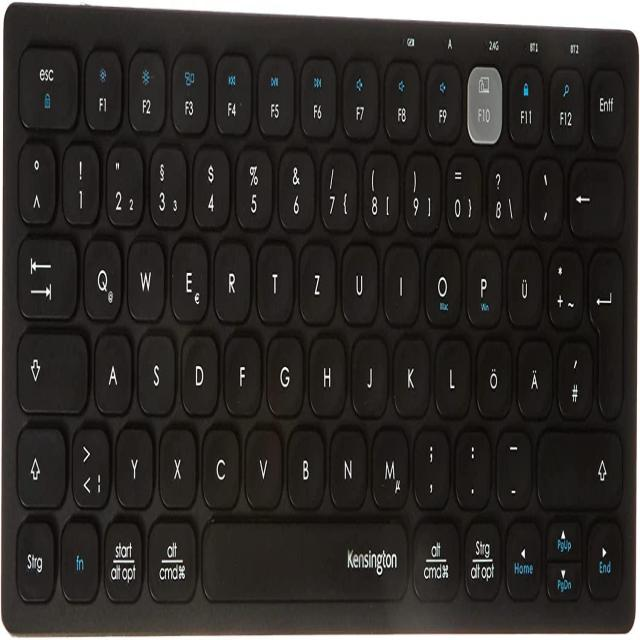0: (444, 150, 480, 234)
1: (61, 138, 99, 222)
2: (104, 141, 143, 225)
3: (147, 142, 186, 227)
4: (191, 142, 229, 226)
5: (234, 144, 272, 228)
6: (277, 146, 315, 230)
7: (318, 147, 357, 231)
8: (360, 148, 398, 232)
9: (402, 148, 439, 233)
a: (93, 328, 131, 412)
accent: (526, 153, 563, 234)
ae: (516, 334, 552, 415)
alt-left: (103, 514, 143, 602)
altgr-right: (458, 515, 506, 599)
b: (285, 424, 324, 506)
c: (200, 423, 239, 507)
caret: (16, 138, 55, 222)
comma: (412, 424, 449, 506)
d: (179, 330, 218, 414)
del: (567, 153, 623, 236)
e: (168, 236, 207, 321)
enter: (586, 244, 623, 418)
f: (223, 329, 260, 413)
g: (265, 331, 303, 415)
h: (308, 331, 345, 415)
hash: (556, 335, 591, 416)
i: (382, 240, 418, 321)
j: (350, 332, 387, 416)
k: (392, 332, 428, 415)
keyboard: (1, 2, 638, 637)
l: (433, 332, 469, 415)
less: (69, 422, 109, 507)
m: (369, 423, 408, 508)
minus: (494, 427, 530, 506)
n: (328, 425, 366, 506)
o: (423, 242, 460, 325)
oe: (474, 335, 511, 415)
p: (465, 243, 501, 324)
plus: (546, 244, 582, 325)
point: (453, 426, 490, 505)
q: (81, 235, 121, 320)
r: (213, 237, 250, 320)
s: (136, 330, 175, 414)
shift-left: (14, 422, 65, 508)
shift-lock: (14, 326, 87, 412)
shift-right: (534, 425, 623, 507)
space: (199, 514, 408, 603)
ss: (485, 153, 521, 234)
strg-left: (14, 515, 54, 601)
t: (255, 238, 292, 320)
tab: (15, 231, 76, 318)
u: (340, 239, 377, 323)
ue: (505, 243, 542, 324)
v: (243, 423, 282, 506)
w: (126, 234, 164, 318)
x: (157, 422, 196, 506)
y: (114, 422, 152, 506)
z: (297, 239, 335, 322)
